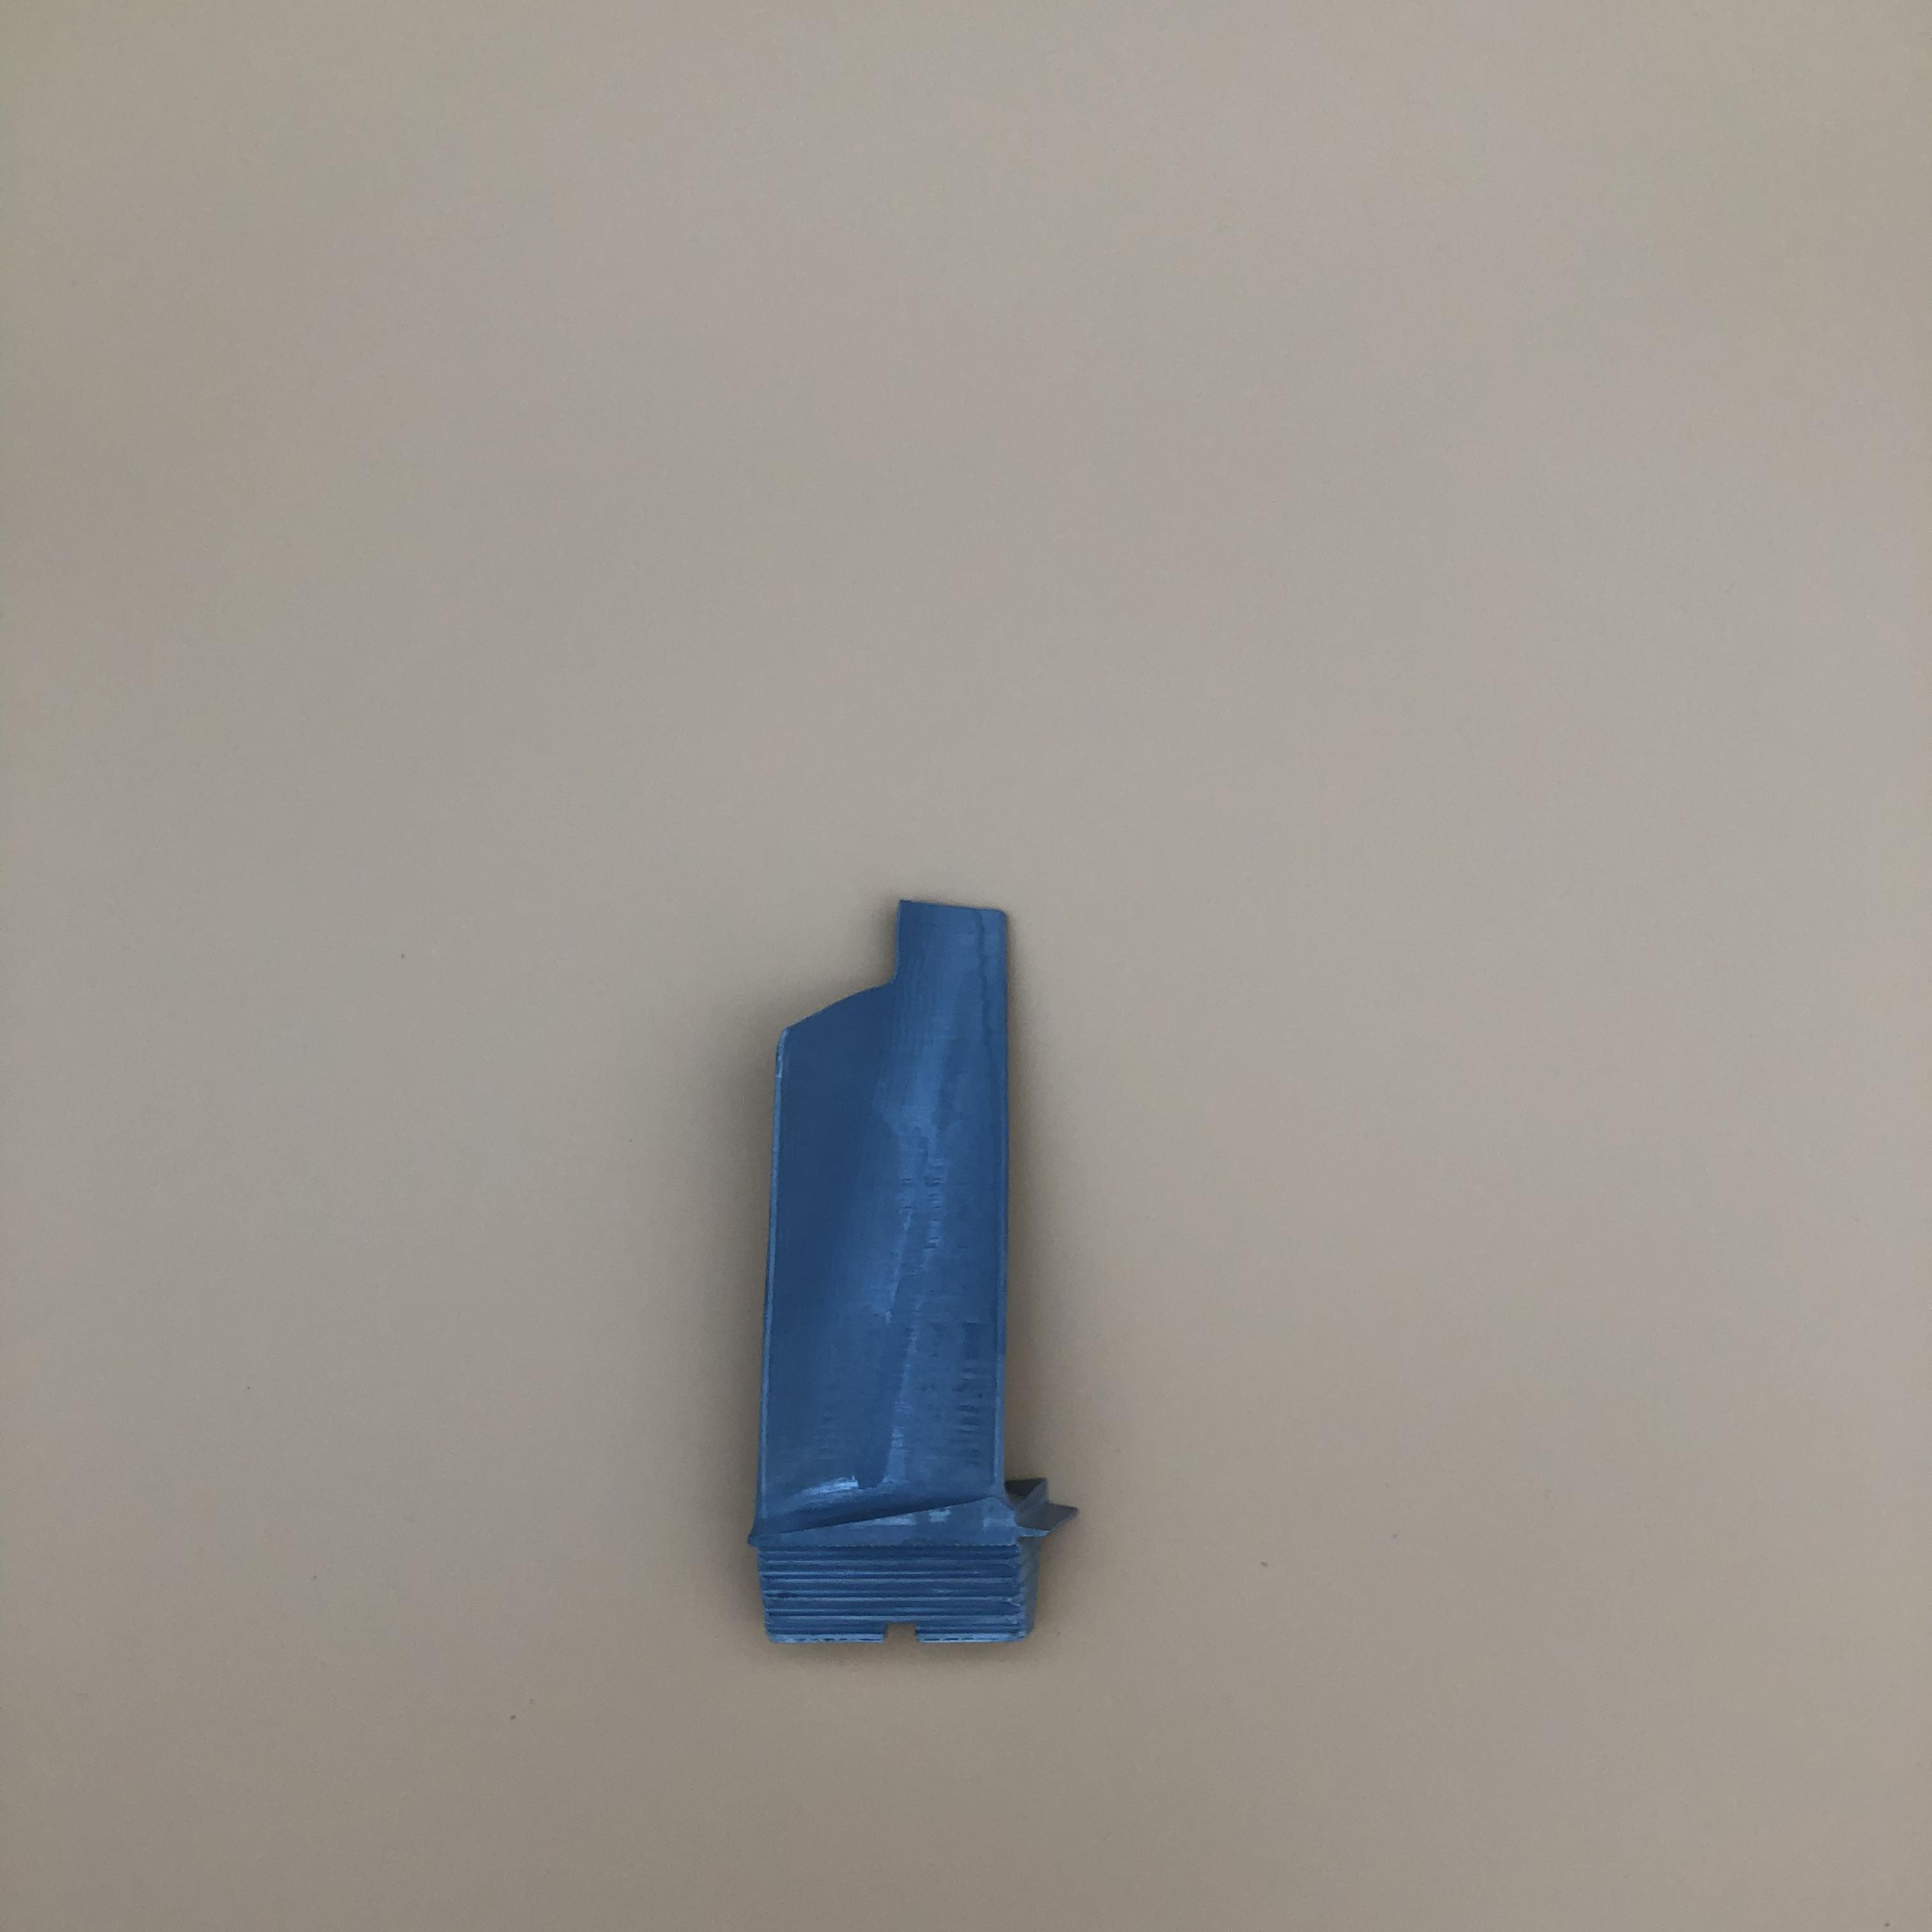fracture: (800, 920, 973, 1044)
